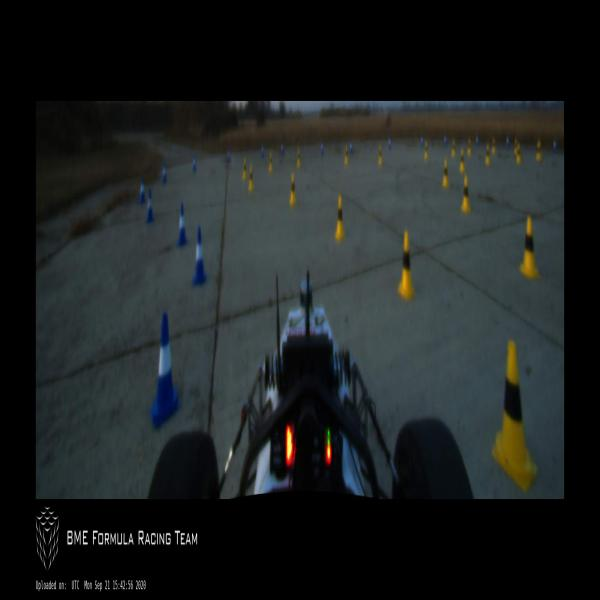blue_cone: (150, 312, 179, 429), (192, 227, 206, 286), (176, 202, 188, 245), (146, 189, 154, 222), (139, 176, 145, 203), (162, 162, 167, 183), (192, 154, 196, 173), (227, 149, 230, 163), (388, 138, 391, 150), (507, 135, 510, 146), (281, 145, 284, 155), (444, 136, 447, 145), (554, 139, 556, 152), (262, 146, 264, 158), (321, 142, 323, 154), (350, 142, 352, 152), (421, 136, 423, 146), (476, 136, 478, 145)
yellow_cone: (492, 339, 538, 495), (518, 215, 540, 280), (397, 230, 415, 298), (333, 195, 345, 239), (462, 177, 470, 212), (288, 175, 296, 206), (442, 159, 449, 189), (459, 148, 466, 172), (248, 165, 254, 192), (536, 140, 542, 161), (516, 143, 522, 163), (485, 143, 490, 165), (451, 137, 456, 158), (344, 146, 349, 166), (268, 152, 272, 174), (243, 159, 247, 179), (378, 146, 382, 166), (492, 136, 496, 156), (513, 136, 517, 156), (424, 140, 428, 159), (297, 149, 301, 168), (468, 136, 471, 156)
